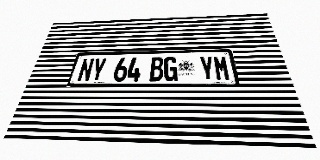4: (126, 57, 142, 81)
6: (113, 58, 129, 82)
B: (149, 57, 164, 81)
G: (164, 57, 178, 81)
M: (213, 55, 231, 81)
N: (77, 58, 95, 82)
Y: (199, 56, 216, 81), (90, 58, 107, 82)
